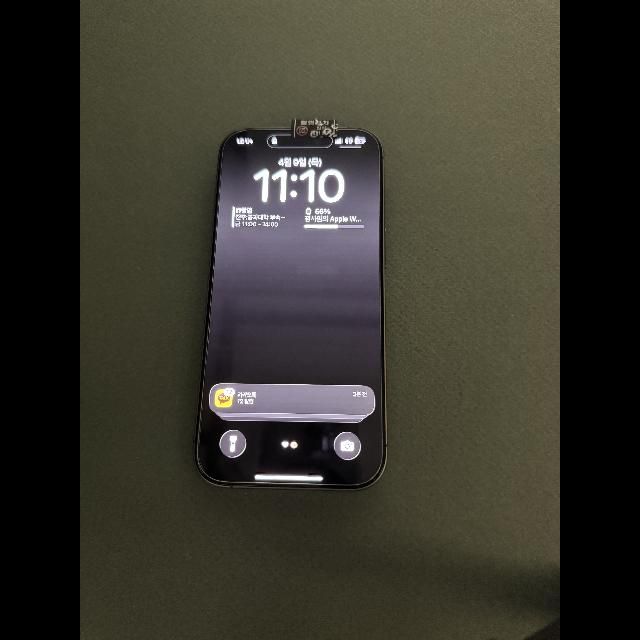lens: (314, 138, 322, 144)
phone: (193, 128, 388, 492)
sticker: (290, 119, 338, 138)
